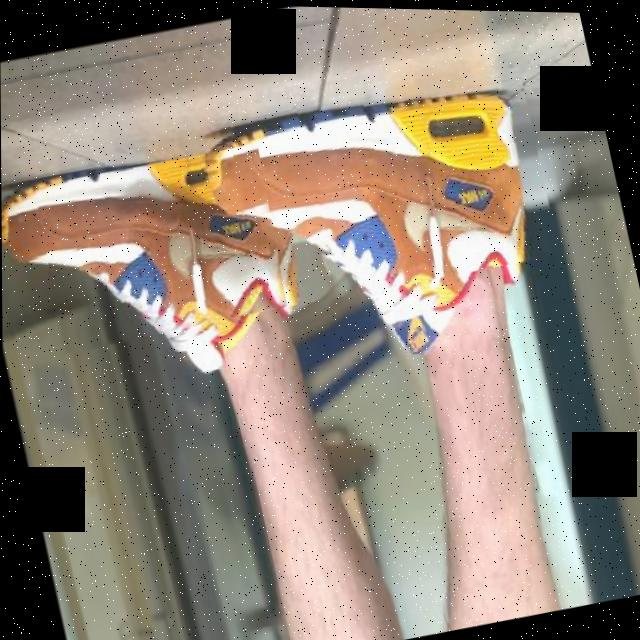shoe: (196, 58, 560, 320), (1, 137, 295, 368)
